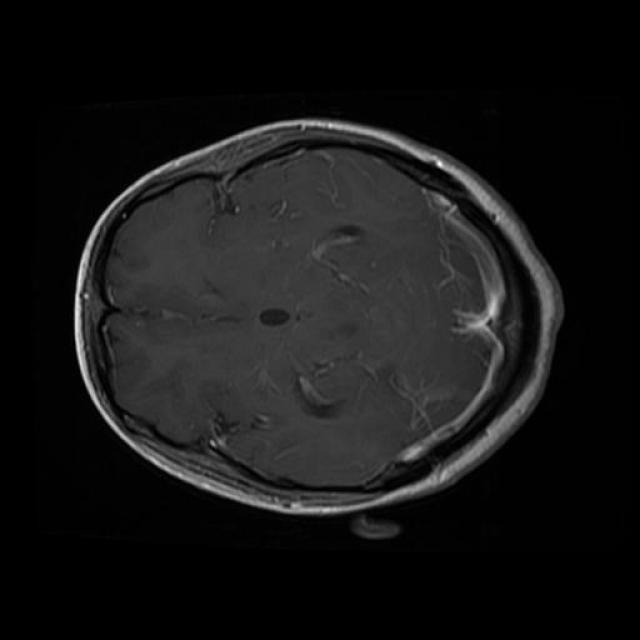Glioma: (177, 382, 264, 482)
